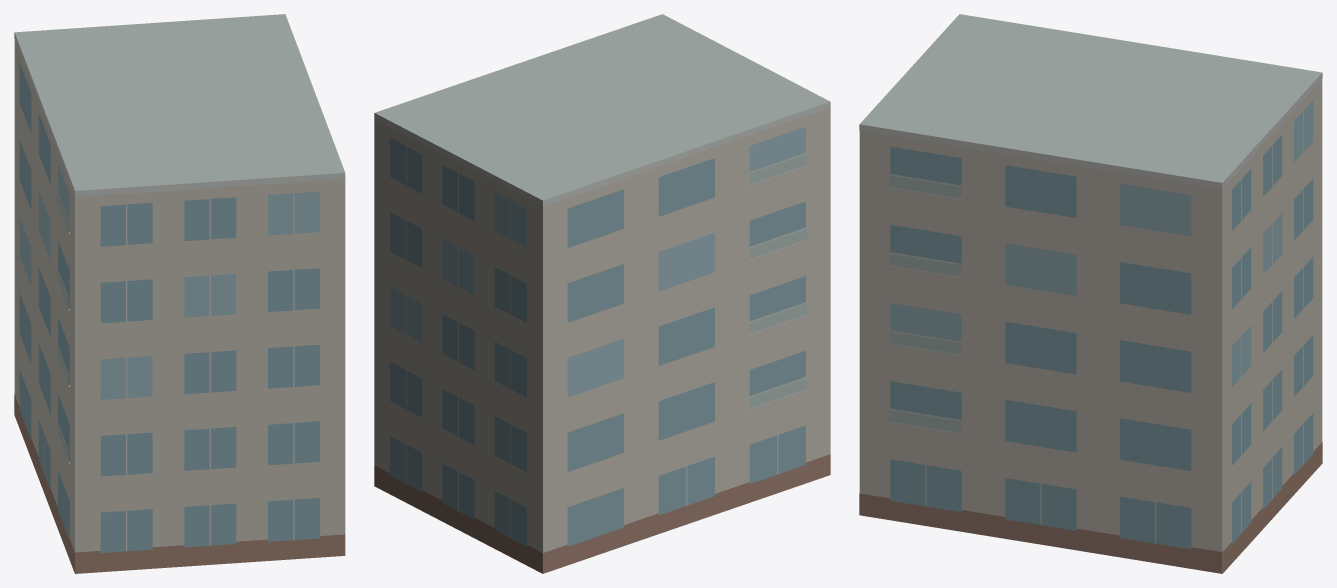
File: survey-upis-32881411.glb
3 renders of one model, left to right at view 1: azimuth 30°, elevation 25°; view 2: azimuth 150°, elevation 25°; view 3: azimuth 270°, elevation 25°, orthographic. The views are drawn at different scales.
Visible parts, largest first — view 1: survey-upis-32881411.tmp; view 2: survey-upis-32881411.tmp; view 3: survey-upis-32881411.tmp.
Boxes of the visible parts, x1,y1,x2,y2 form: survey-upis-32881411.tmp: [14, 14, 345, 573]; survey-upis-32881411.tmp: [374, 14, 830, 573]; survey-upis-32881411.tmp: [859, 14, 1322, 573].
Bounding box in the file's own units: 14.19 × 15.3 × 16.43.
